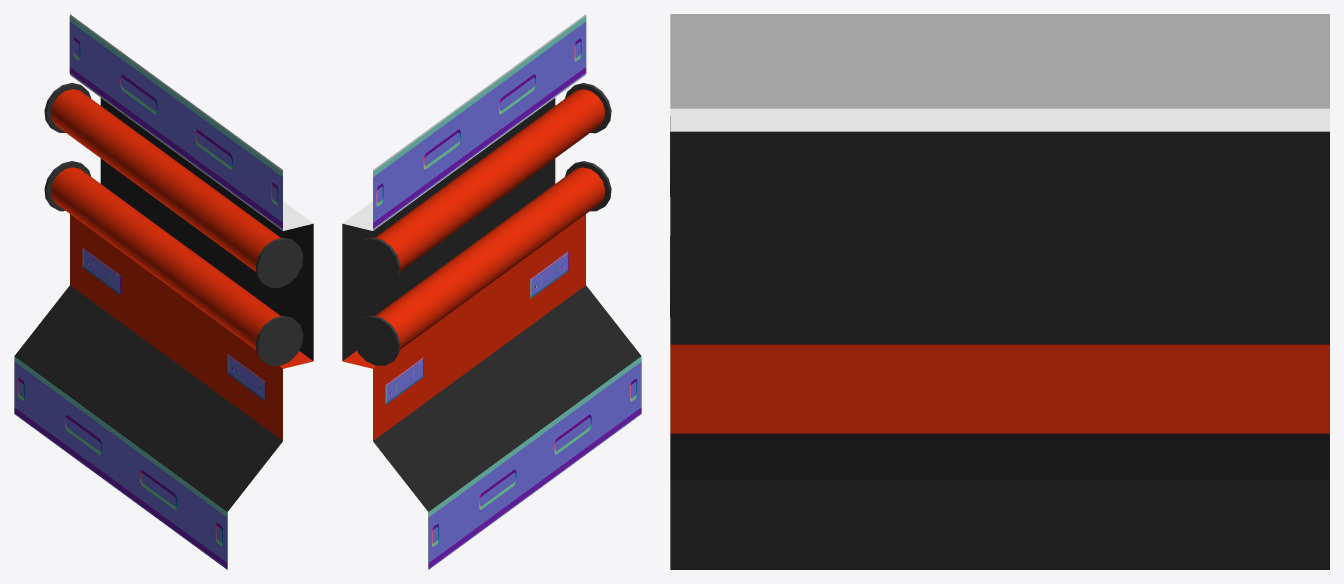
Rendered from S_assete_basement_wall_3.fbx.
The picture shows the model from 3 angles, left to right: view 1: azimuth 30°, elevation 25°; view 2: azimuth 150°, elevation 25°; view 3: azimuth 270°, elevation 25°; orthographic projection. The views are drawn at different scales.
Parts seen in each view (by area): view 1: S_basement_wall_3; view 2: S_basement_wall_3; view 3: S_basement_wall_3.
Boxes of the visible parts, x1,y1,x2,y2 form: S_basement_wall_3: (14,14,313,569); S_basement_wall_3: (342,14,641,569); S_basement_wall_3: (670,14,1329,569).
Bounding box in the file's own units: 46.77 × 200 × 200.
